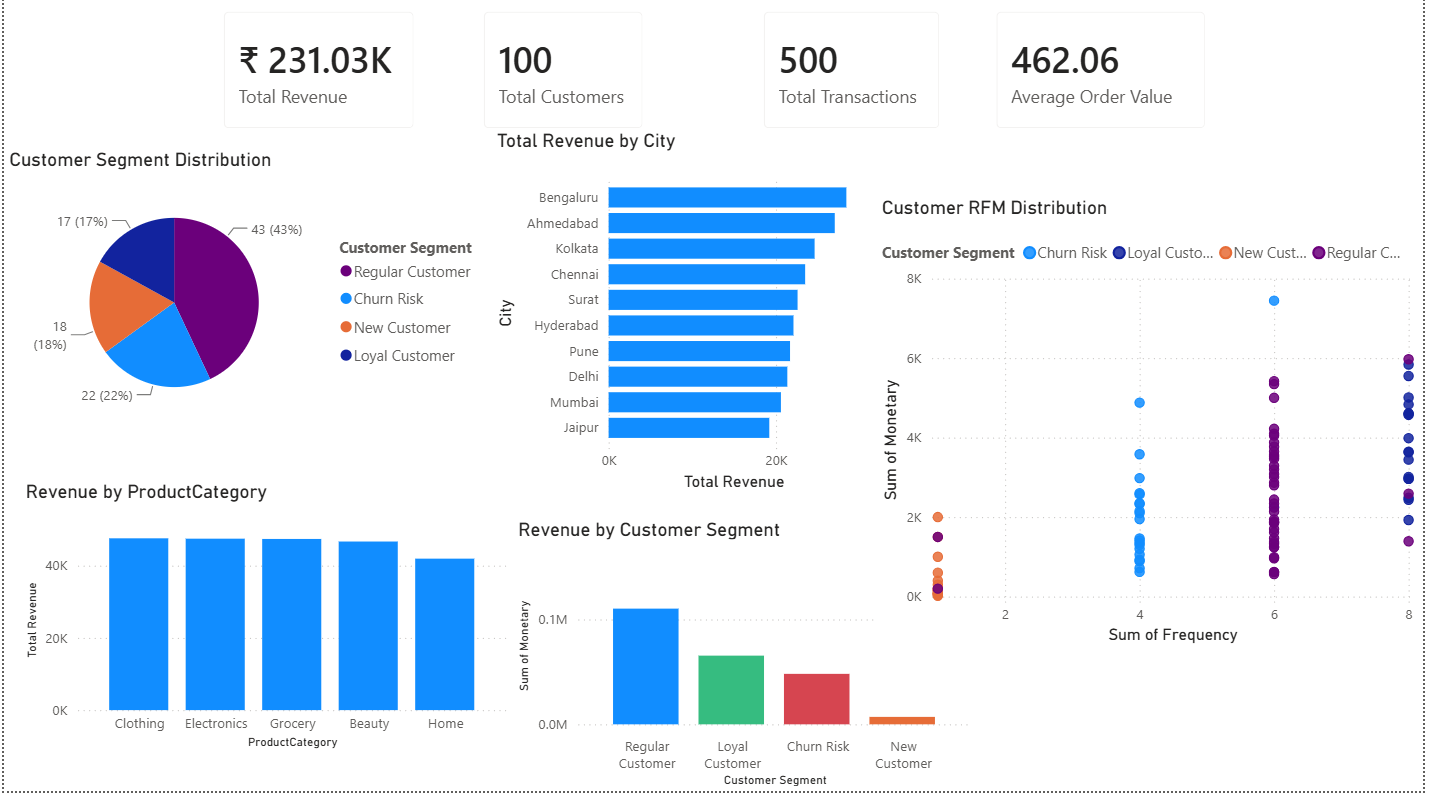

The page's visual inventory and layout, read from the dashboard file:
{"tool":"powerbi","page":{"name":"Page 1","canvas":[1280,720],"ordinal":0},"visuals":[{"type":"cardVisual","fields":{"Data":["customer_transaction.Total Revenue"]},"box":[181.5,0,205.1,139.8],"z":0},{"type":"cardVisual","fields":{"Data":["customer_transaction.Total Customers"]},"box":[415.9,0,177,140],"z":1},{"type":"cardVisual","fields":{"Data":["customer_transaction.Total Transactions"]},"box":[668.4,0,192.1,140],"z":2},{"type":"cardVisual","fields":{"Data":["customer_transaction.Average Order Value"]},"box":[878,0,222.3,140],"z":3},{"type":"pieChart","title":"Customer Segment Distribution","fields":{"Category":["RFM Summary.Customer Segment"],"Y":["CountNonNull(RFM Summary.CustomerID)"]},"box":[0,139.8,443.2,248.4],"z":4},{"type":"clusteredColumnChart","title":"Revenue by Customer Segment","fields":{"Category":["RFM Summary.Customer Segment"],"Y":["Sum(RFM Summary.Monetary)"]},"box":[458.7,473.4,419.3,246.8],"z":5},{"type":"clusteredColumnChart","title":"Revenue by ProductCategory","fields":{"Category":["customer_transaction.ProductCategory"],"Y":["customer_transaction.Total Revenue"]},"box":[14.7,439.6,444.1,246.8],"z":7},{"type":"clusteredBarChart","fields":{"Category":["customer_transaction.City"],"Y":["customer_transaction.Total Revenue"]},"box":[439.6,122.9,347.2,330.7],"z":8},{"type":"scatterChart","title":"Customer RFM Distribution","fields":{"X":["Sum(RFM Summary.Frequency)"],"Y":["Sum(RFM Summary.Monetary)"],"Series":["RFM Summary.Customer Segment"],"Category":["RFM Summary.CustomerName"]},"box":[786.7,183.7,493.7,408],"z":9}]}

Visuals, with their boxes in screenshot pixels (x1, y1, x2, y2), scaled from the page's 1280x720 canvas onto the 1438x797 screenshot:
cardVisual - customer_transaction.Total Revenue: rect(204, 0, 434, 155)
cardVisual - customer_transaction.Total Customers: rect(467, 0, 666, 155)
cardVisual - customer_transaction.Total Transactions: rect(751, 0, 967, 155)
cardVisual - customer_transaction.Average Order Value: rect(986, 0, 1236, 155)
"Customer Segment Distribution" pieChart: rect(0, 155, 498, 430)
"Revenue by Customer Segment" clusteredColumnChart: rect(515, 524, 986, 796)
"Revenue by ProductCategory" clusteredColumnChart: rect(17, 487, 515, 760)
clusteredBarChart - customer_transaction.City x customer_transaction.Total Revenue: rect(494, 136, 884, 502)
"Customer RFM Distribution" scatterChart: rect(884, 203, 1437, 655)
